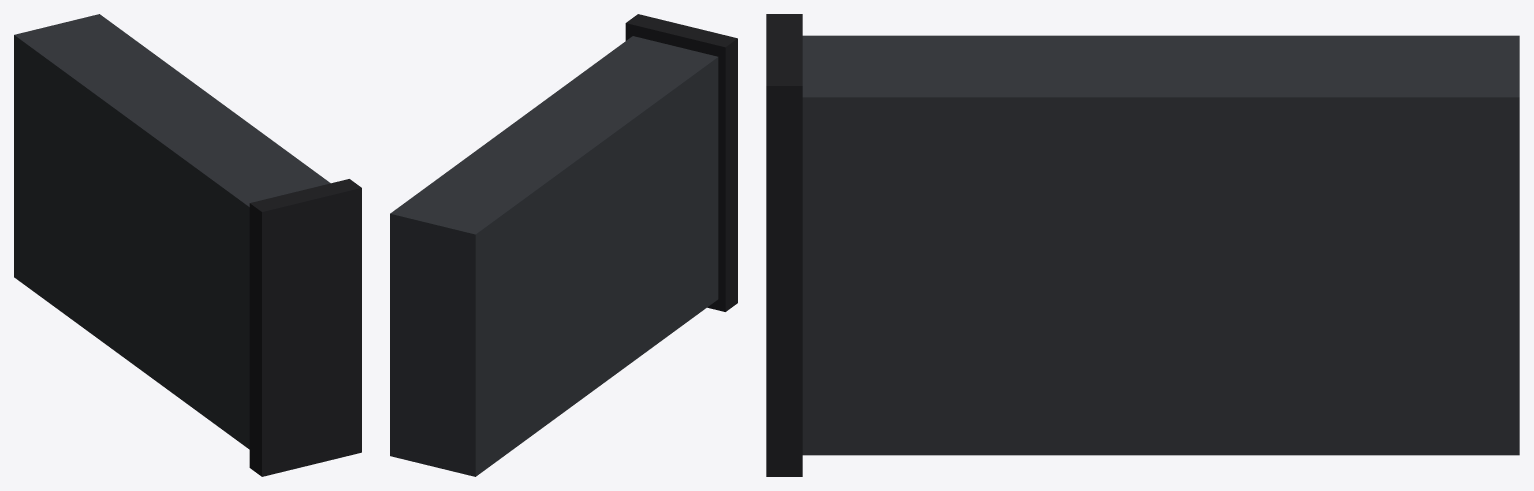
The model's file is Galil_Mag35.fbx.
The picture shows the model from 3 angles, left to right: view 1: azimuth 30°, elevation 25°; view 2: azimuth 150°, elevation 25°; view 3: azimuth 270°, elevation 25°; orthographic projection. The views are drawn at different scales.
Parts seen in each view (by area): view 1: prims; view 2: prims; view 3: prims.
Boxes of the visible parts, x1=… form: prims: x1=14, y1=14, x2=361, y2=476; prims: x1=390, y1=14, x2=737, y2=476; prims: x1=766, y1=14, x2=1519, y2=476.
Bounding box in the file's own units: 0.0168 × 0.0426 × 0.0744.
